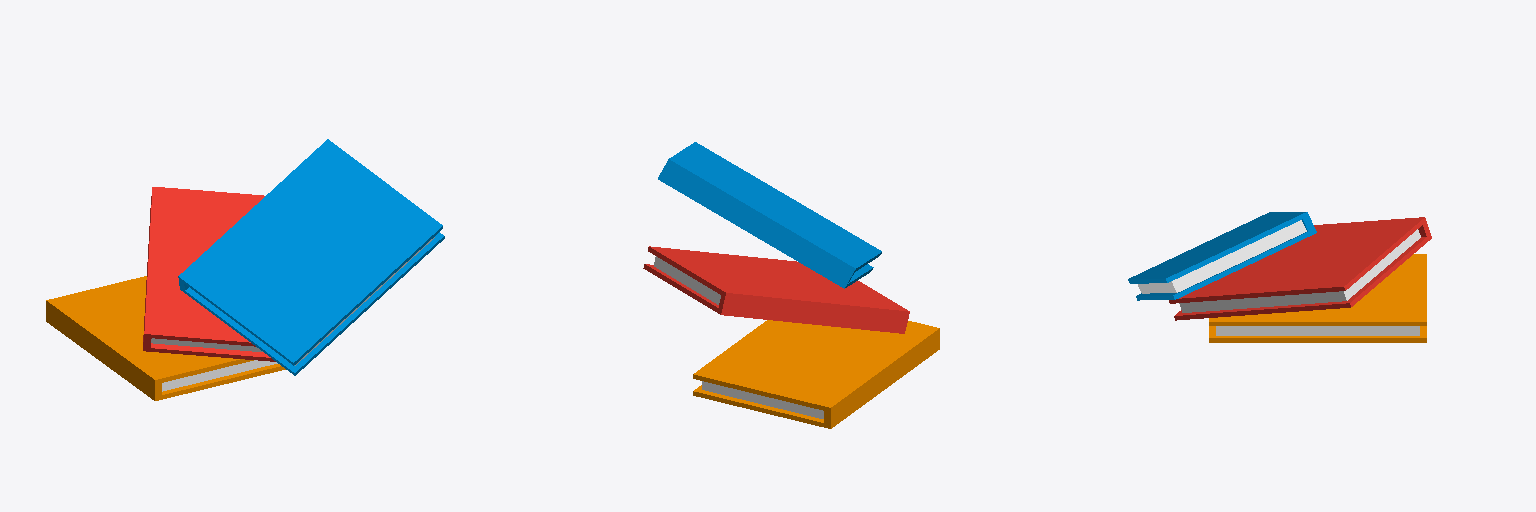
3 views of the same model, side by side, from view 1: azimuth 30°, elevation 25°; view 2: azimuth 150°, elevation 25°; view 3: azimuth 270°, elevation 25° (orthographic).
Visible parts, largest first — view 1: group[number redacted], group[number redacted], group[number redacted], group[number redacted], group[number redacted], group[number redacted], group[number redacted], group[number redacted], group[number redacted]; view 2: group[number redacted], group[number redacted], group[number redacted], group[number redacted], group[number redacted], group[number redacted], group[number redacted], group[number redacted], group[number redacted], group[number redacted], group[number redacted]; view 3: group[number redacted], group[number redacted], group[number redacted], group[number redacted], group[number redacted], group[number redacted], group[number redacted], group[number redacted], group[number redacted].
Part boxes in pixels (x1,y1,x2,y2): group[number redacted]: (178, 139, 442, 365); group[number redacted]: (144, 187, 264, 346); group[number redacted]: (46, 276, 253, 384); group[number redacted]: (180, 232, 444, 375); group[number redacted]: (46, 302, 161, 399); group[number redacted]: (46, 320, 285, 400); group[number redacted]: (143, 208, 275, 361); group[number redacted]: (162, 360, 277, 391); group[number redacted]: (151, 338, 262, 351); group[number redacted]: (693, 320, 939, 411); group[number redacted]: (648, 246, 909, 315); group[number redacted]: (668, 142, 881, 271); group[number redacted]: (660, 161, 855, 286); group[number redacted]: (718, 295, 908, 331); group[number redacted]: (824, 330, 939, 426); group[number redacted]: (693, 345, 939, 428); group[number redacted]: (643, 264, 905, 333); group[number redacted]: (702, 381, 823, 418); group[number redacted]: (658, 175, 873, 288); group[number redacted]: (654, 256, 720, 304); group[number redacted]: (1169, 217, 1426, 303); group[number redacted]: (1209, 254, 1426, 325); group[number redacted]: (1128, 212, 1308, 283); group[number redacted]: (1179, 229, 1420, 312); group[number redacted]: (1138, 220, 1306, 293); group[number redacted]: (1216, 326, 1419, 335); group[number redacted]: (1174, 234, 1431, 320); group[number redacted]: (1209, 326, 1426, 342); group[number redacted]: (1136, 229, 1316, 300).
Size of the model in its own units: 1.27 by 0.7658 by 1.23.